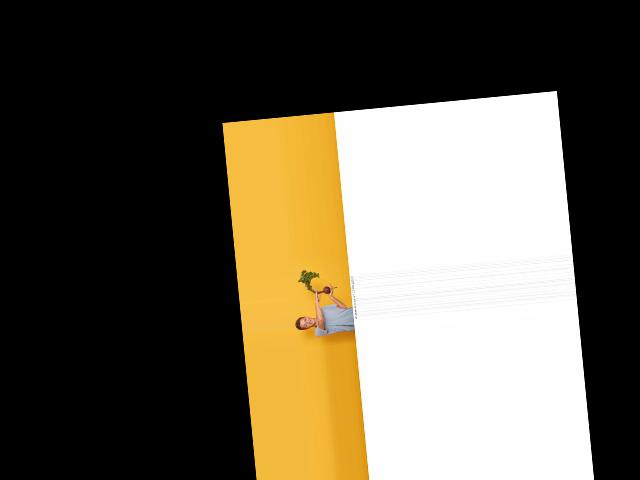beet: (297, 266, 337, 296)
